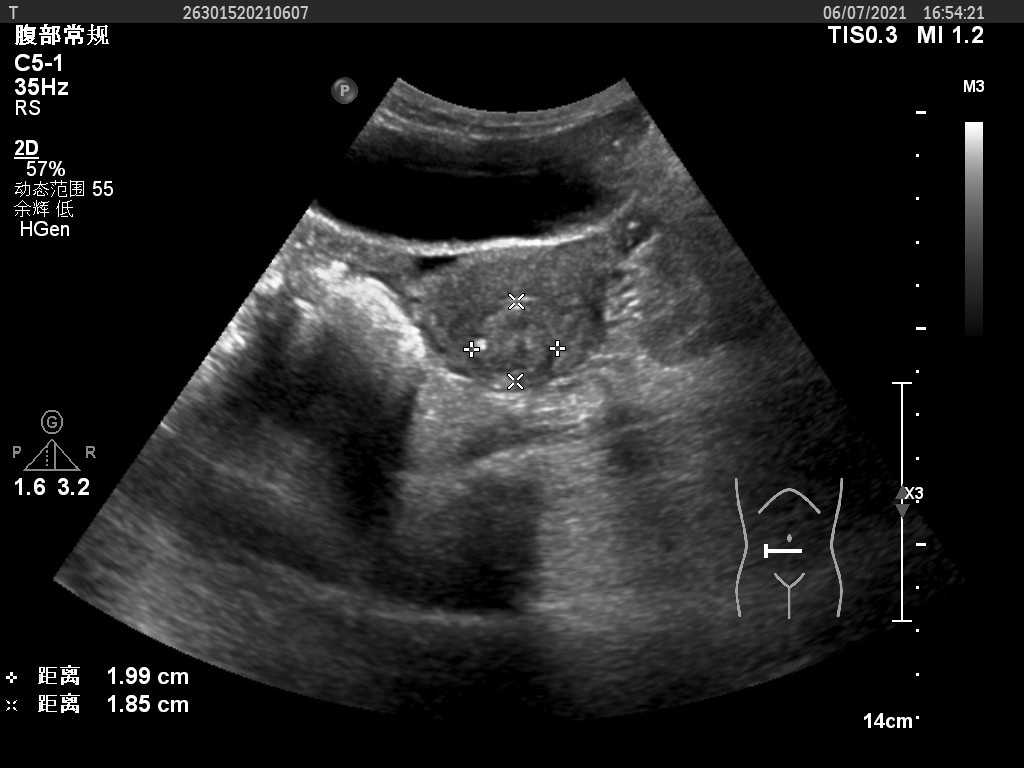肌瘤: (473, 304, 560, 382)
